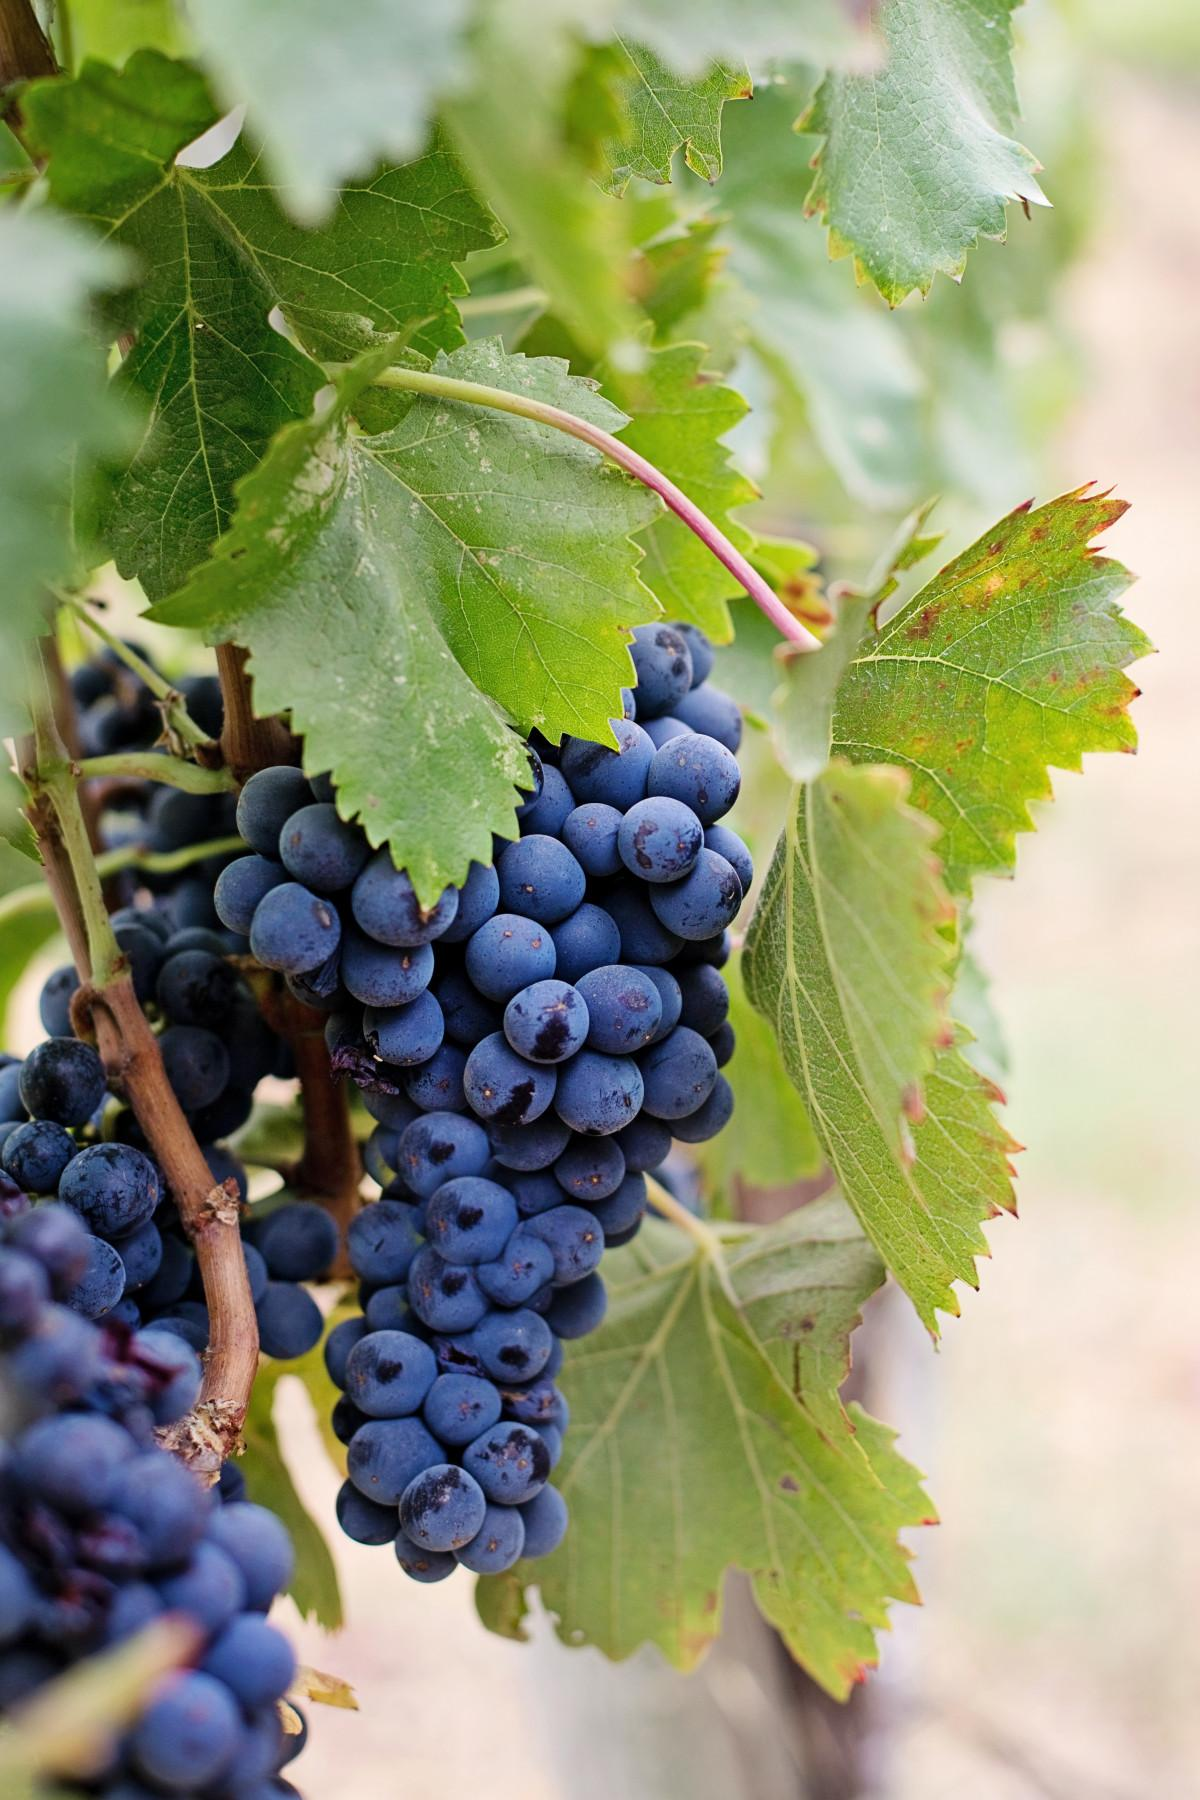grape: (193, 608, 820, 1625)
